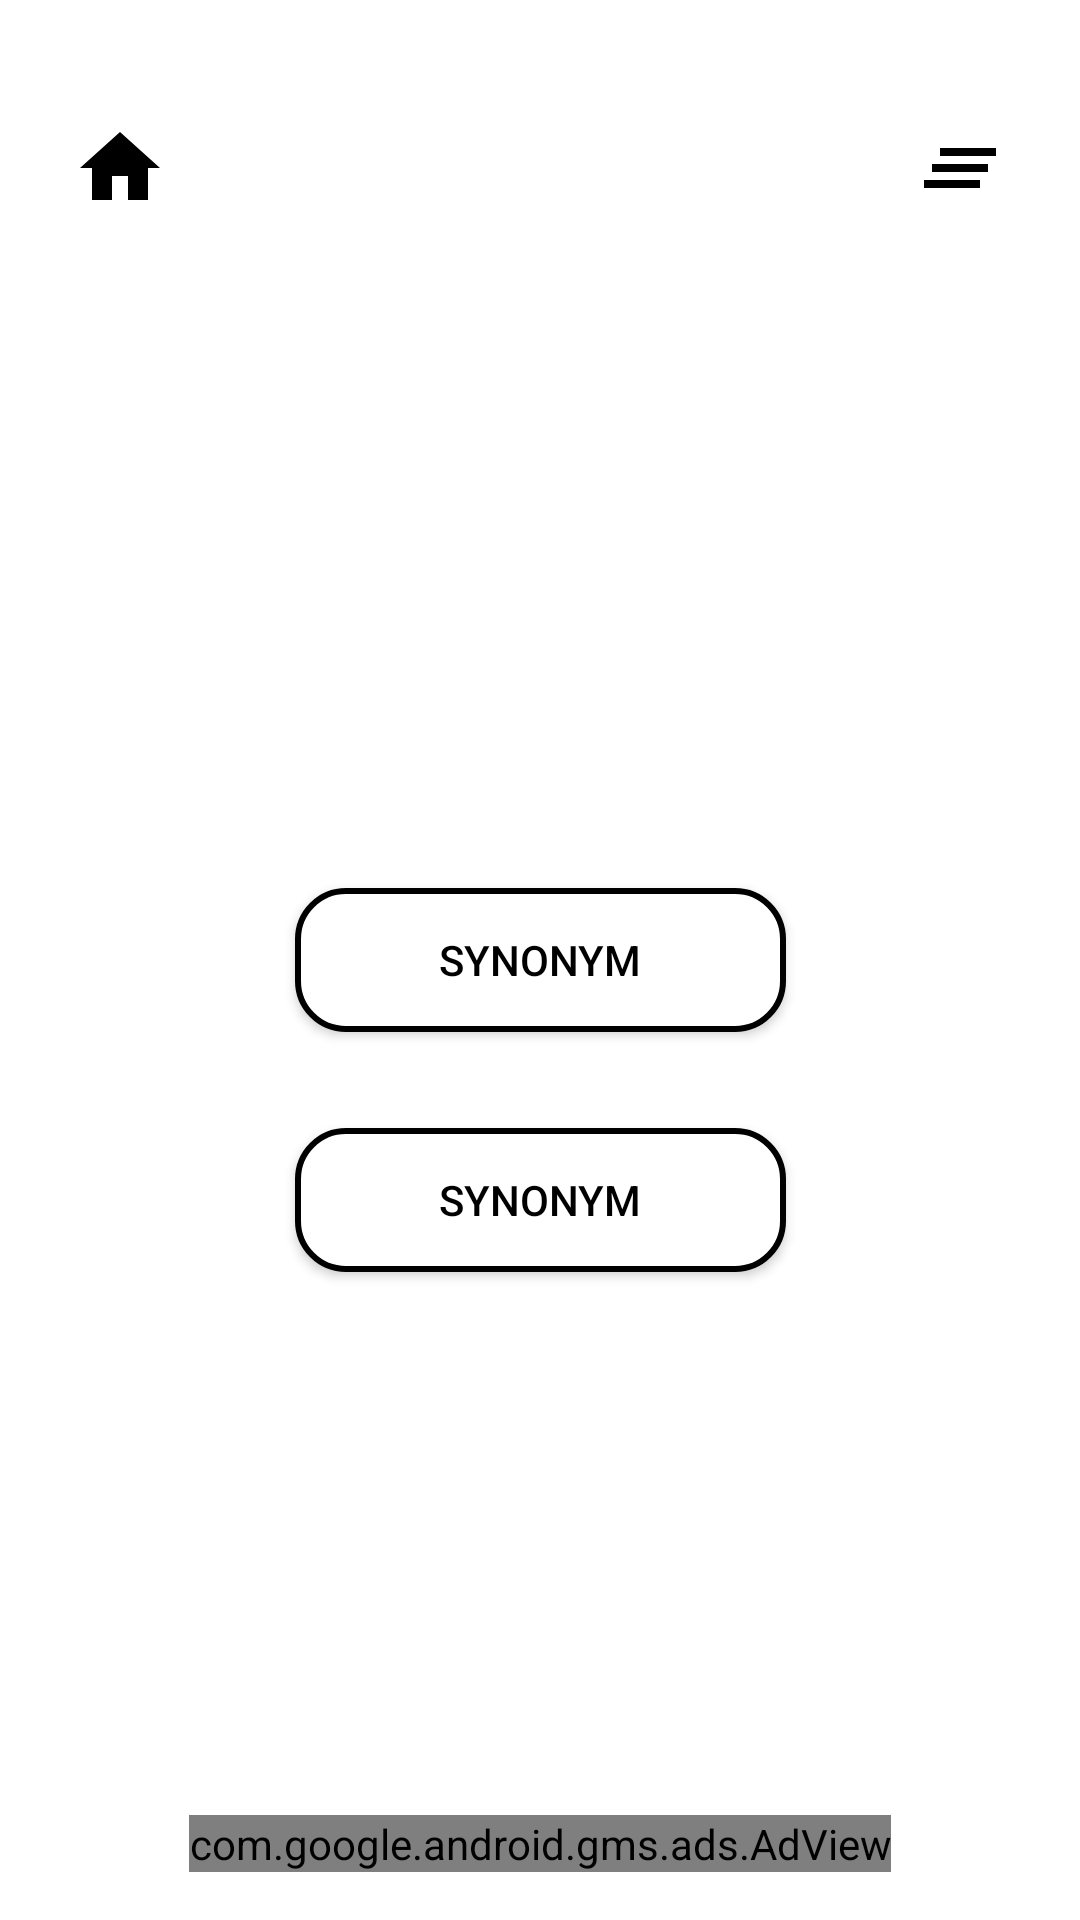

Locate icon controls on the screen. Image size 1080*1920, boxes as (x1, y1, x2, y2).
home: (80, 132, 160, 200)
